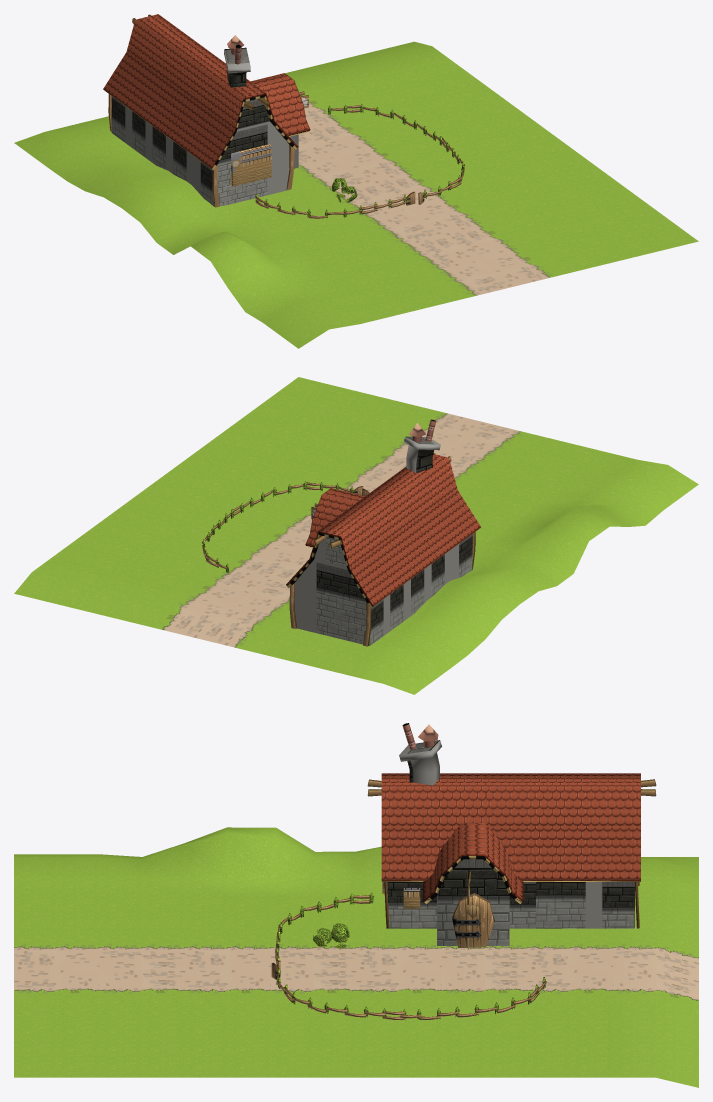
File: ENVScene1.fbx
3 renders of one model, top to bottom at view 1: azimuth 30°, elevation 25°; view 2: azimuth 150°, elevation 25°; view 3: azimuth 270°, elevation 25°, orthographic. The views are drawn at different scales.
Parts seen in each view (by area): view 1: ENV_ground_mesh, ENV_house_mesh, ENV_porch_mesh, ENV_fence_mesh, ENV_window_mesh, ENV_chimney_mesh, ENV_beams_mesh; view 2: ENV_ground_mesh, ENV_house_mesh, ENV_porch_mesh, ENV_chimney_mesh, ENV_fence_mesh, ENV_beams_mesh; view 3: ENV_ground_mesh, ENV_house_mesh, ENV_porch_mesh, ENV_fence_mesh, ENV_door_mesh, ENV_chimney_mesh, ENV_beams_mesh.
Boxes of the visible parts, left/top/right/bottom form: ENV_ground_mesh: left=14, top=41, right=698, bottom=348; ENV_house_mesh: left=103, top=14, right=298, bottom=206; ENV_porch_mesh: left=251, top=73, right=310, bottom=168; ENV_fence_mesh: left=255, top=104, right=464, bottom=218; ENV_window_mesh: left=231, top=144, right=271, bottom=186; ENV_chimney_mesh: left=224, top=35, right=250, bottom=87; ENV_beams_mesh: left=108, top=14, right=294, bottom=207; ENV_ground_mesh: left=14, top=377, right=698, bottom=694; ENV_house_mesh: left=286, top=454, right=480, bottom=645; ENV_porch_mesh: left=305, top=488, right=364, bottom=547; ENV_chimney_mesh: left=404, top=419, right=440, bottom=473; ENV_fence_mesh: left=202, top=481, right=353, bottom=573; ENV_beams_mesh: left=289, top=453, right=475, bottom=646; ENV_ground_mesh: left=14, top=827, right=698, bottom=1087; ENV_house_mesh: left=381, top=773, right=640, bottom=928; ENV_porch_mesh: left=423, top=823, right=523, bottom=945; ENV_fence_mesh: left=275, top=892, right=546, bottom=1020; ENV_door_mesh: left=452, top=893, right=494, bottom=947; ENV_chimney_mesh: left=399, top=723, right=441, bottom=785; ENV_beams_mesh: left=367, top=779, right=656, bottom=928.
Bounding box in the file's own units: 6095 × 2379 × 7500.
